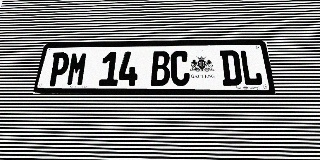1: (99, 52, 120, 86)
4: (118, 51, 139, 86)
B: (151, 51, 170, 86)
C: (170, 51, 190, 86)
D: (219, 50, 242, 86)
L: (239, 50, 263, 86)
M: (65, 52, 89, 86)
P: (47, 52, 71, 86)
